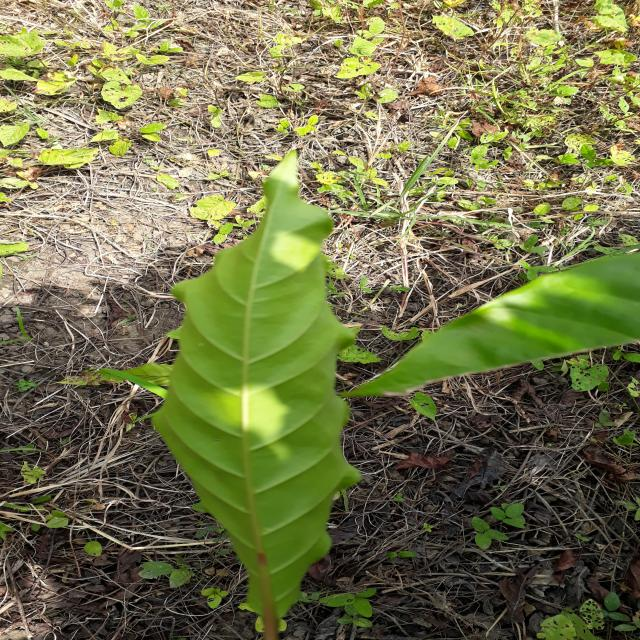Plaga-AranaRoja: (150, 150, 361, 640)
